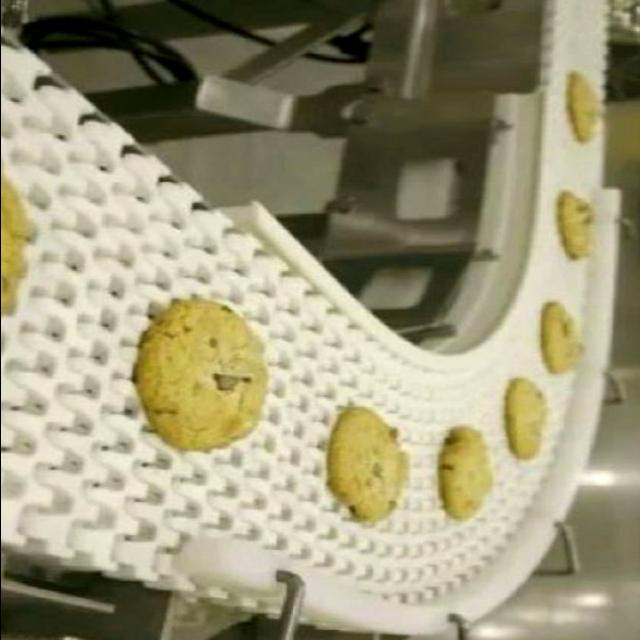food: (132, 297, 270, 453), (320, 402, 430, 530)
